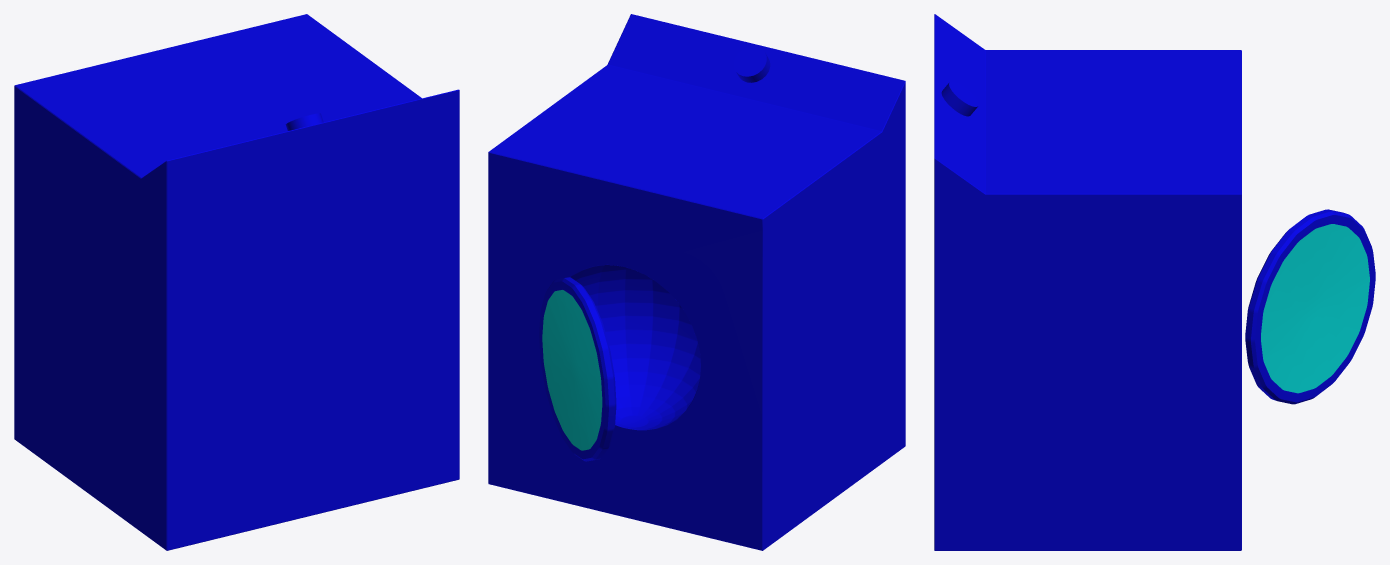
Rendered from Floor2WashingMachine.fbx.
3 renders of one model, left to right at view 1: azimuth 30°, elevation 25°; view 2: azimuth 150°, elevation 25°; view 3: azimuth 270°, elevation 25°, orthographic. The views are drawn at different scales.
Parts seen in each view (by area): view 1: WashingMachine; view 2: WashingMachine, polySurface2; view 3: WashingMachine, polySurface2.
Part boxes in pixels (x1,y1,x2,y2): WashingMachine: (14, 14, 459, 550); WashingMachine: (488, 14, 905, 550); polySurface2: (539, 277, 616, 461); WashingMachine: (934, 14, 1241, 550); polySurface2: (1245, 209, 1375, 404).
Bounding box in the file's own units: 111 × 142 × 143.
